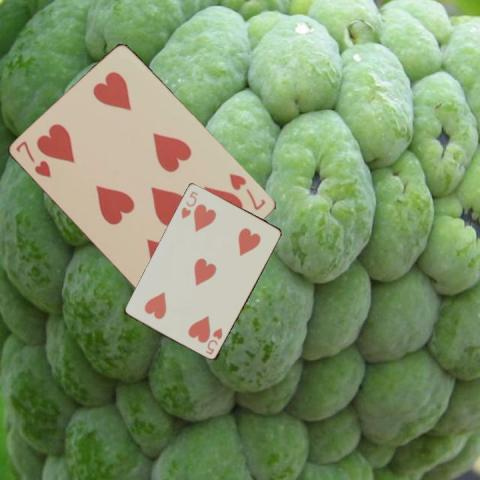5h: (178, 188, 199, 220), (203, 324, 224, 356)
7h: (226, 169, 267, 212), (12, 138, 52, 179)
